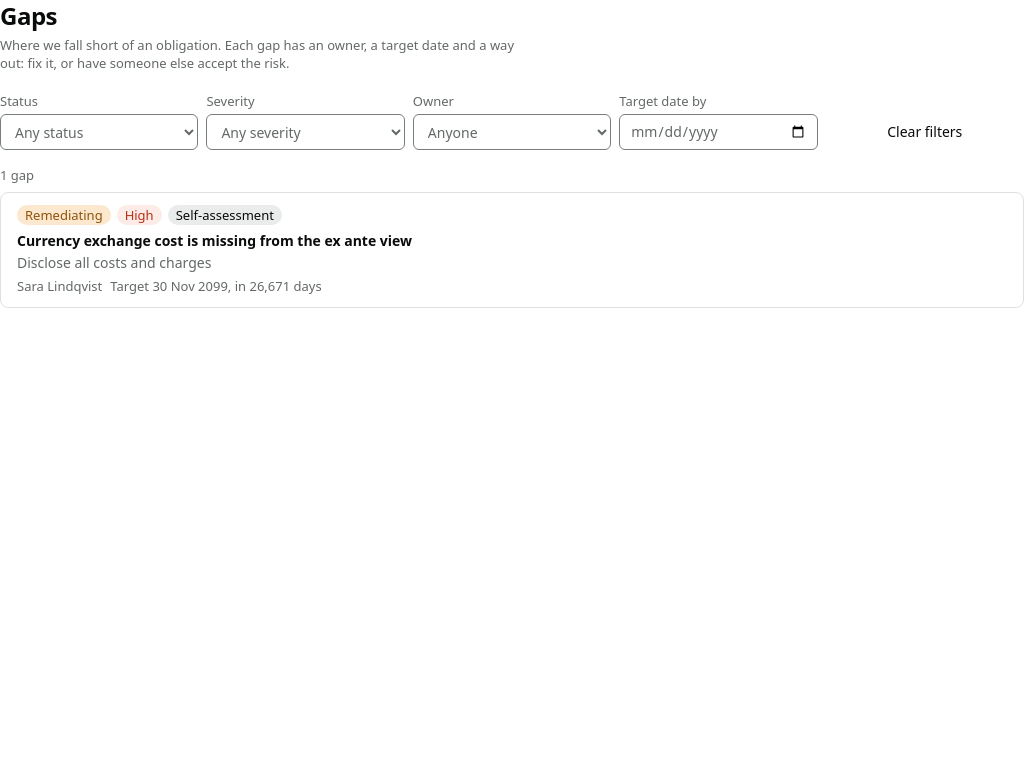
the way out › closes a gap under way after a confirmation, and answers a stale write in place with Reload
This screenshot has width=1024, height=768.
Click the button "Currency exchange cost is missing from the ex ante view" at (215, 241), box 17,231 -> 412,251
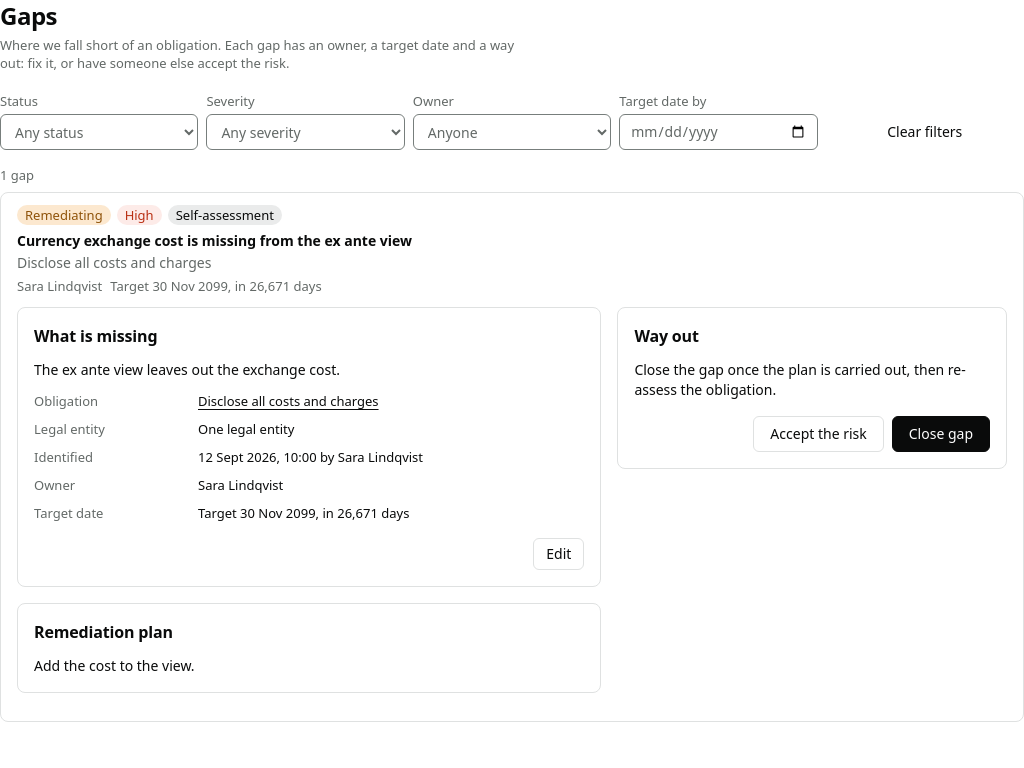
Result: the element that starts with "What is missing" is shown at 17,307 -> 1007,709
Result: the button "Close gap" is enabled
Click the button "Close gap" at (941, 434), box 892,416 -> 990,452
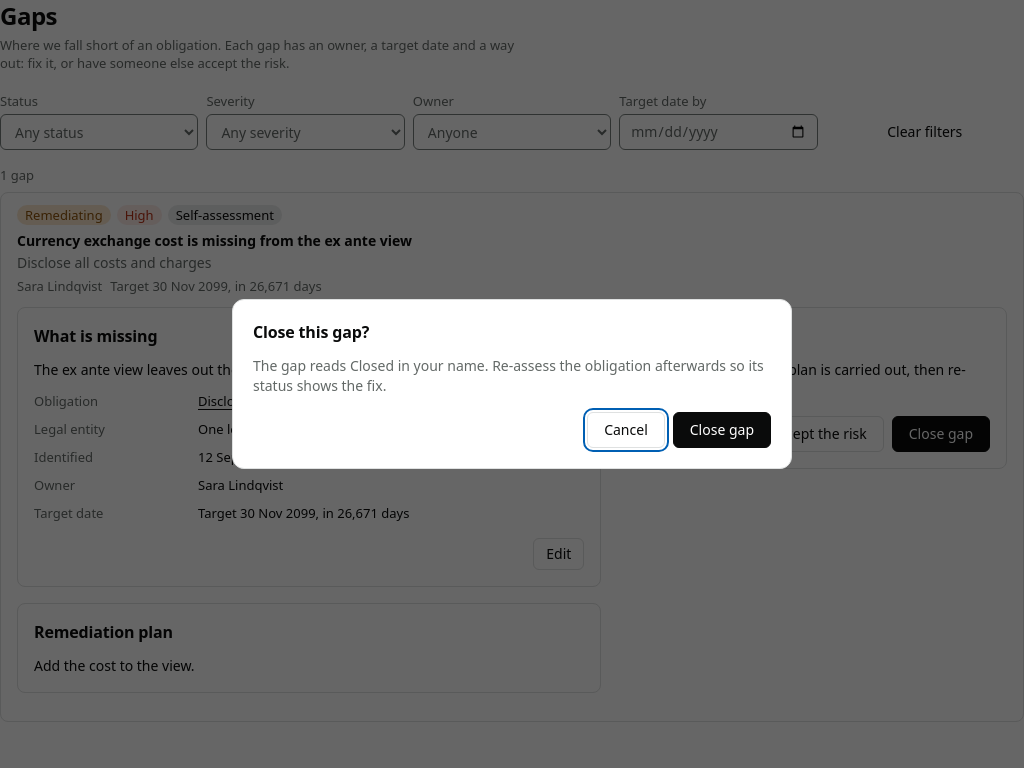
Click the button "Close gap" at (722, 430), box 673,412 -> 771,448
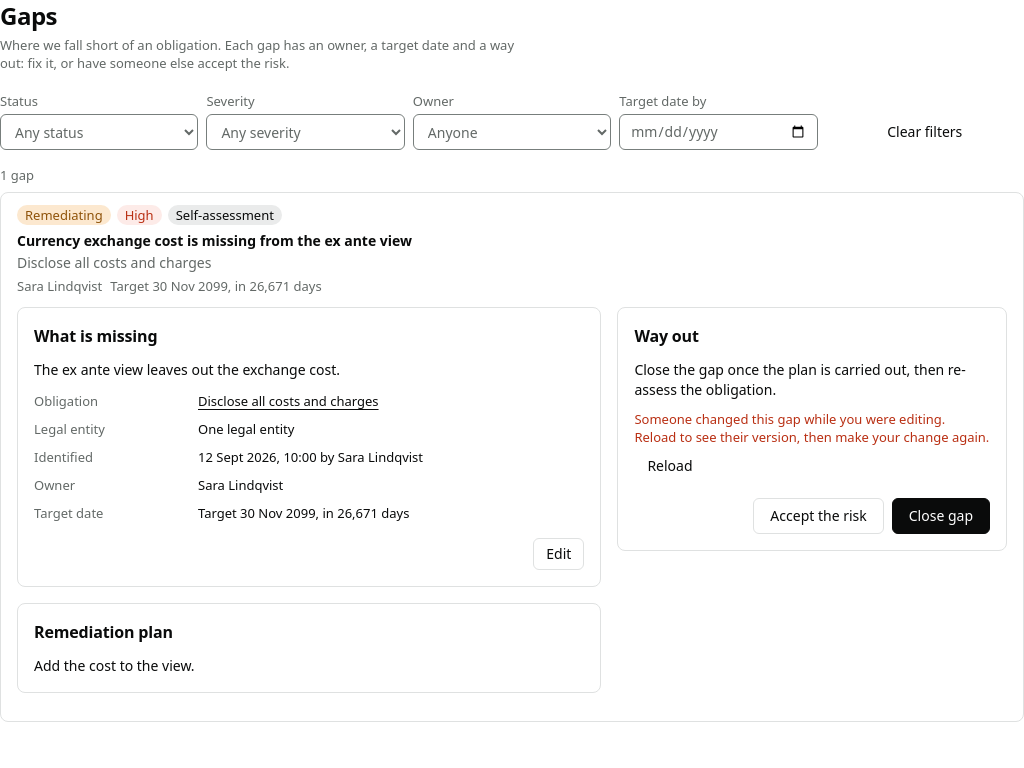
Result: the text "Someone changed this gap while you were editing. Reload to see their version, then make your change again." is shown at 634,410 -> 989,446
Result: the button "Reload" is shown at 634,450 -> 706,482
